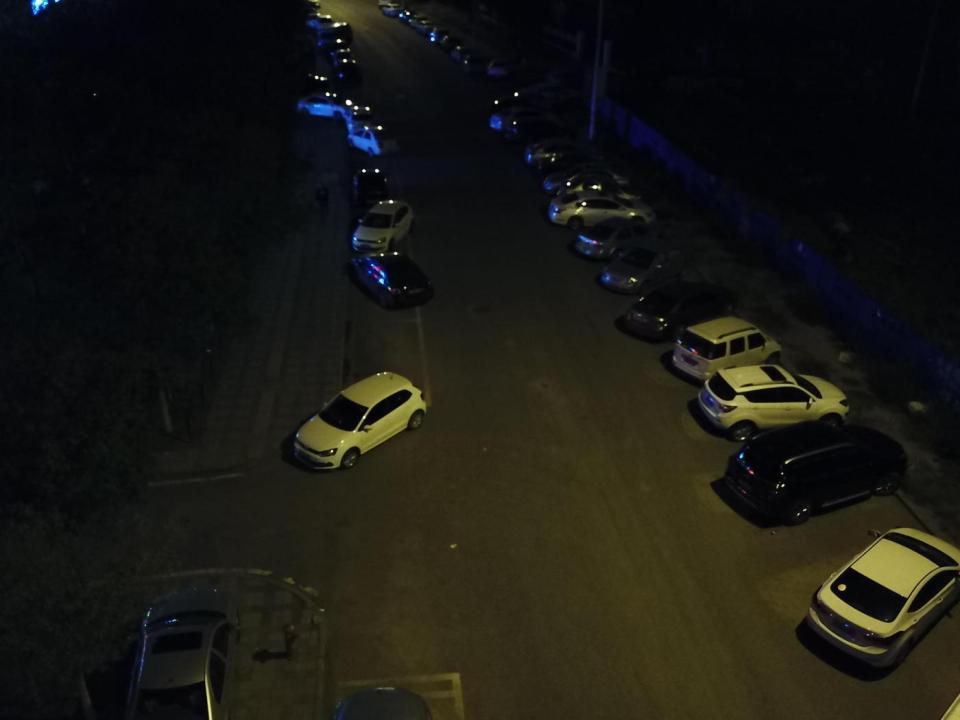car: (805, 522, 959, 671), (725, 418, 911, 523), (119, 587, 244, 720), (289, 368, 428, 473), (696, 363, 850, 441), (620, 274, 740, 342), (673, 316, 785, 381), (599, 235, 697, 298), (352, 250, 436, 309), (547, 190, 658, 232), (575, 215, 661, 263), (541, 162, 633, 198), (561, 174, 644, 213), (523, 135, 606, 169), (539, 152, 622, 182), (506, 116, 578, 144), (490, 93, 554, 122), (347, 126, 402, 158), (491, 105, 556, 132), (296, 91, 350, 120), (343, 105, 374, 131), (335, 59, 362, 86), (486, 57, 512, 80), (462, 52, 489, 73), (449, 42, 476, 61), (328, 47, 356, 65), (440, 34, 464, 53), (318, 31, 340, 51), (382, 1, 405, 18), (315, 12, 335, 31), (429, 26, 451, 43), (416, 18, 438, 35), (399, 9, 419, 25), (406, 14, 428, 28), (330, 40, 350, 53)
van: (319, 21, 354, 44)
